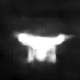plane: (13, 30, 75, 64)
